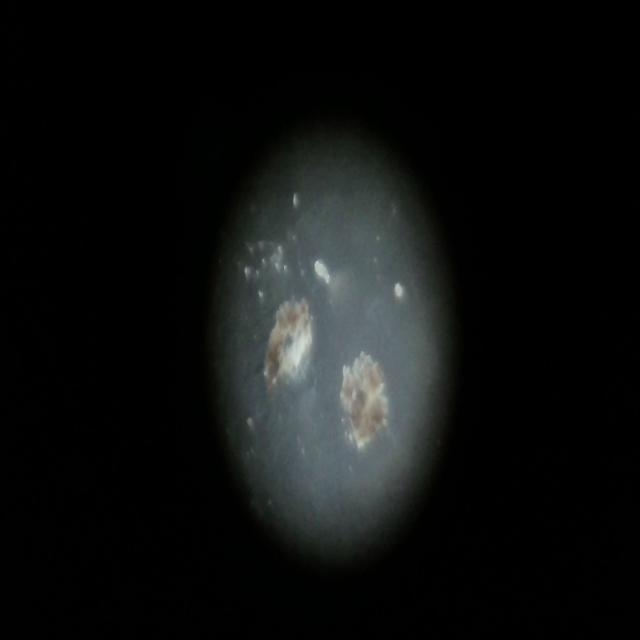alexandrium: (334, 336, 392, 466), (261, 292, 313, 398)
